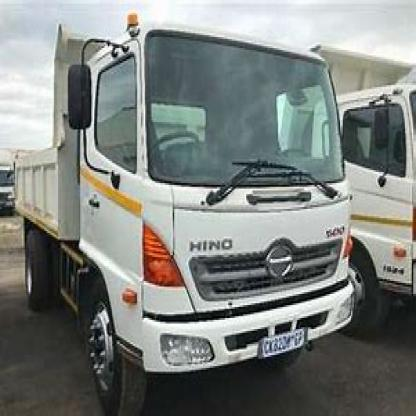dump_truck: (6, 17, 351, 401)
